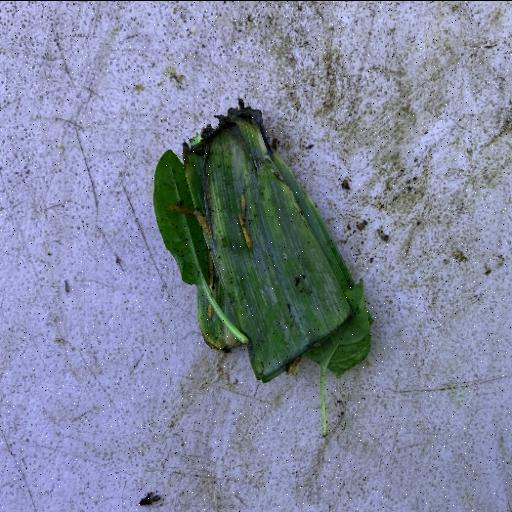Waste: (150, 98, 374, 436)
